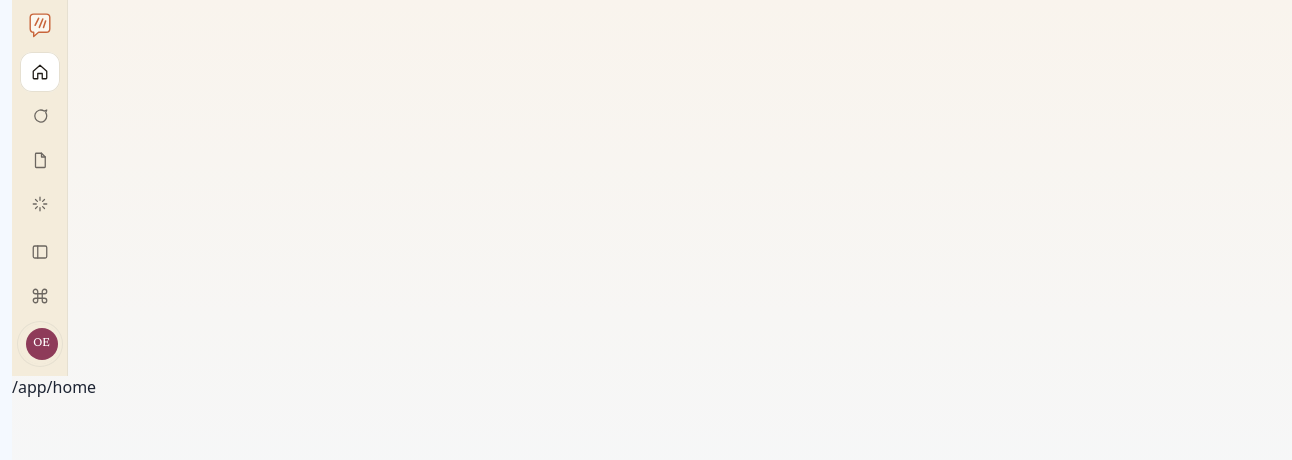
IconRail › opens the profile menu from the avatar button
Click the button with aria-label "Owner Example — account" at (40, 344), box [20,324,60,364]
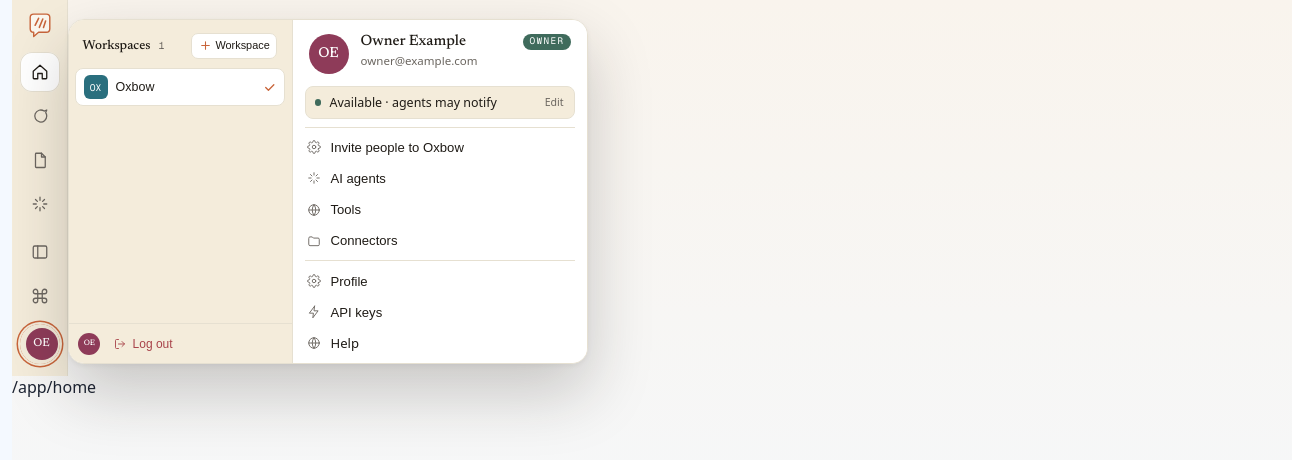
Expected: the menu item "Log out" is shown, [108,332,179,355]
